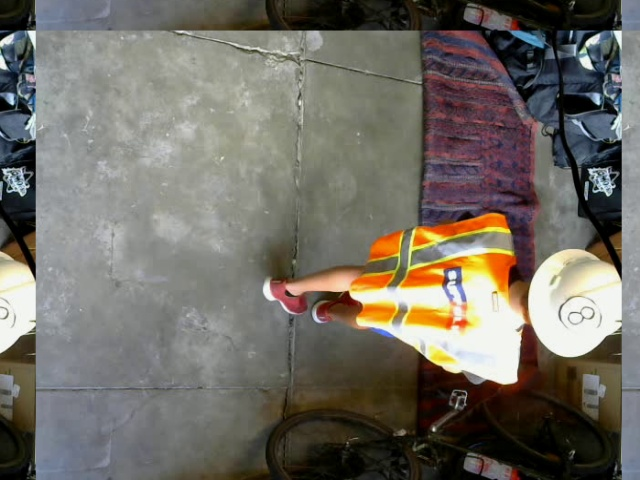eight: (558, 294, 601, 334)
